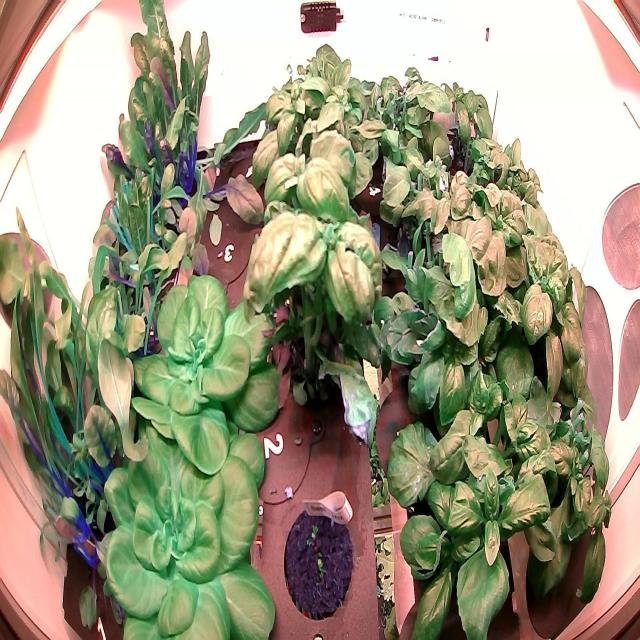empty_pod: (194, 195, 260, 297), (224, 132, 276, 211)
germination: (276, 493, 366, 624)
young: (92, 424, 286, 640), (121, 268, 284, 475)
